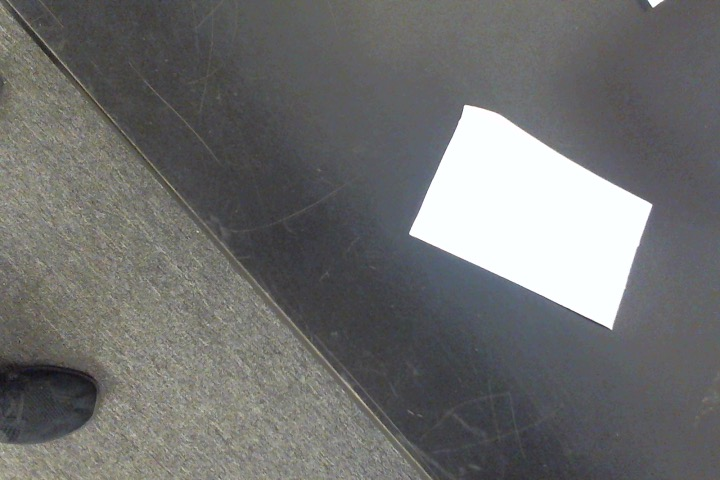Tape: (409, 105, 654, 330)
